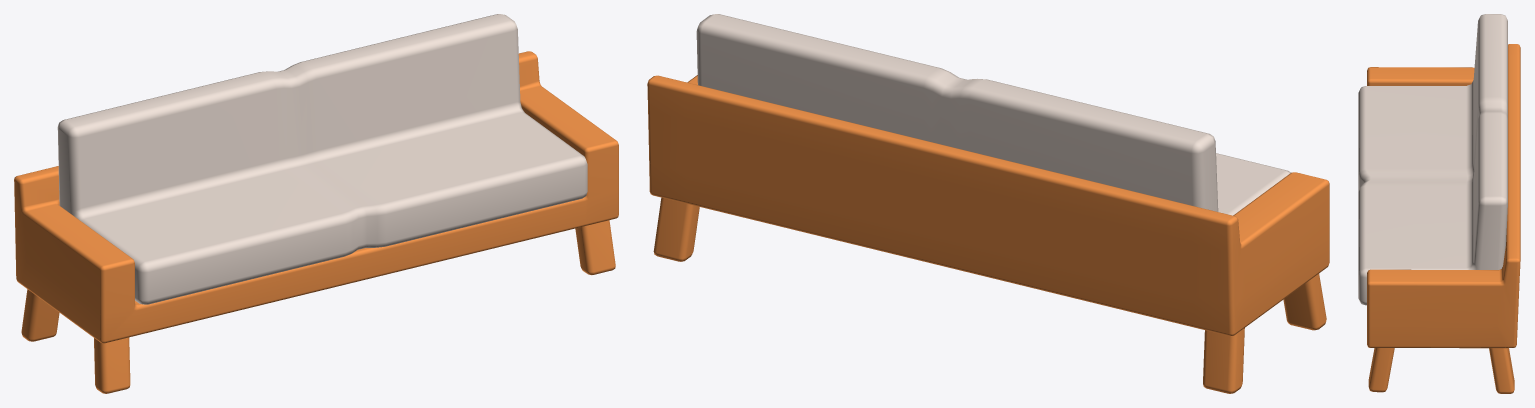
Rendered from Chair_Couch_5.glb.
The picture shows the model from 3 angles, left to right: view 1: azimuth 30°, elevation 25°; view 2: azimuth 150°, elevation 25°; view 3: azimuth 270°, elevation 25°; orthographic projection. The views are drawn at different scales.
Visible parts, largest first — view 1: Couch_5; view 2: Couch_5; view 3: Couch_5.
Boxes of the visible parts, box(x1,y1,x2,y2) form: Couch_5: box(14, 14, 618, 393); Couch_5: box(647, 14, 1329, 393); Couch_5: box(1358, 14, 1520, 393).
Size of the model in its own units: 2.58 by 1.01 by 0.8144.
Materials: 1 (1 with a texture image).
